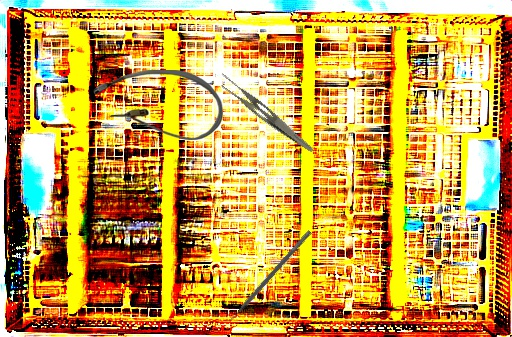Cannula: (93, 70, 223, 140)
Dressing Forceps: (211, 71, 323, 154)
Spatula Surgical: (224, 226, 312, 326)
